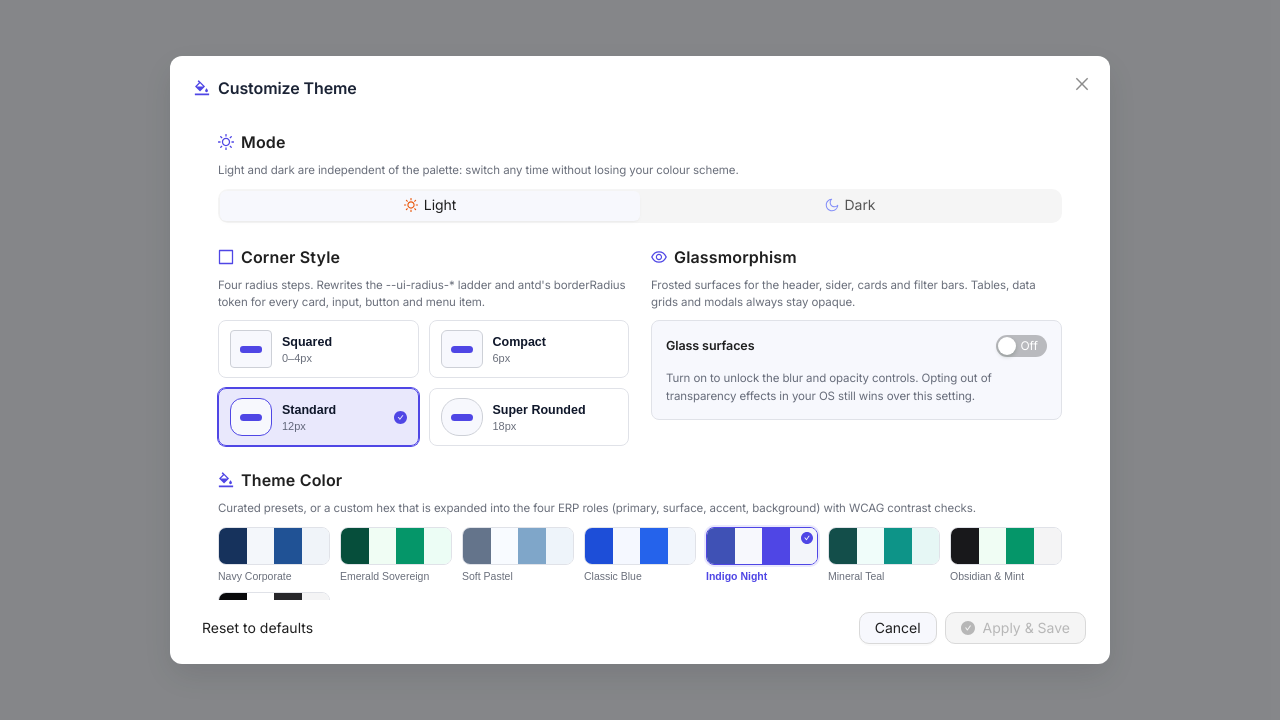
Test case: AdvancedThemeModal ↔ ThemeProvider › exposes the glass blur + opacity controls and writes them as tokens
The width and height of the screenshot is (1280, 720).
Click the switch named "toggle glassmorphism" at (1022,346), box [996,335,1047,357]
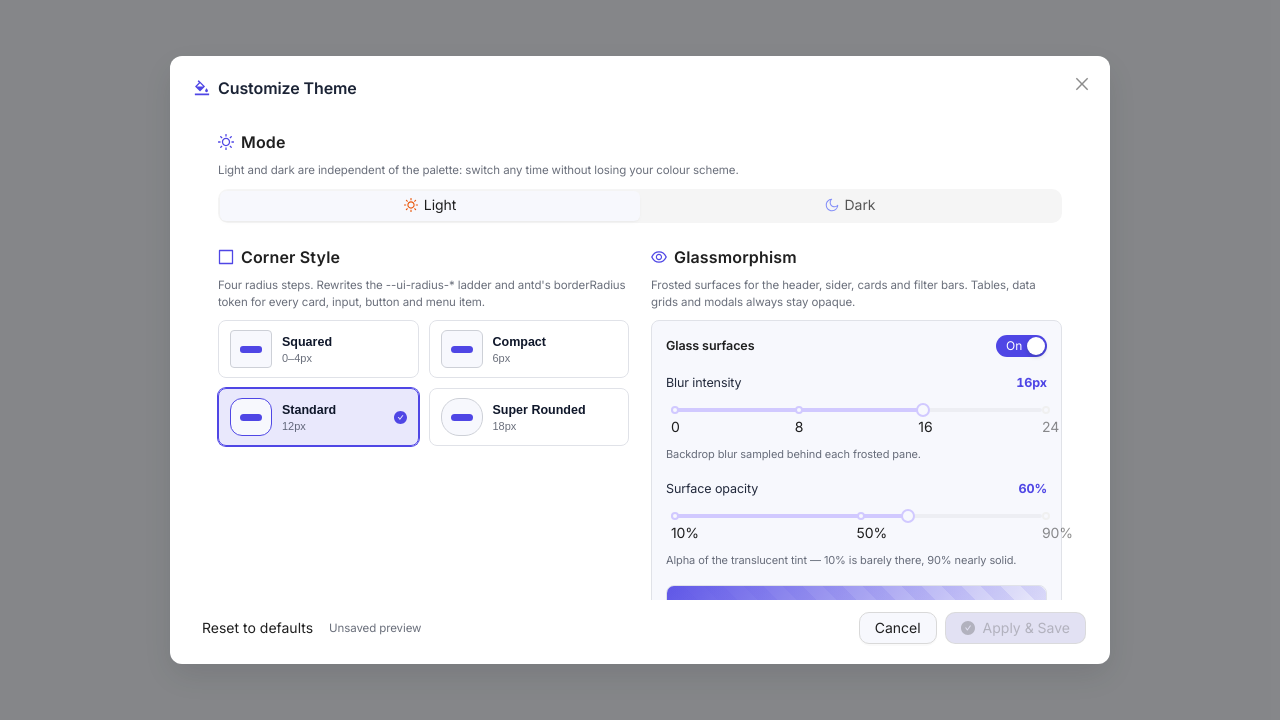
Result: the text "Blur intensity" is shown at [666,373,742,393]
Result: the text "Surface opacity" is shown at [666,479,758,499]
